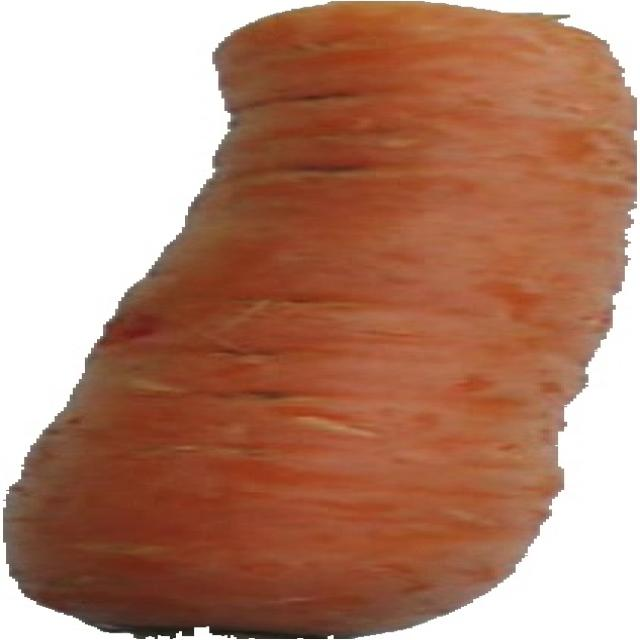carrot: (8, 2, 634, 638)
